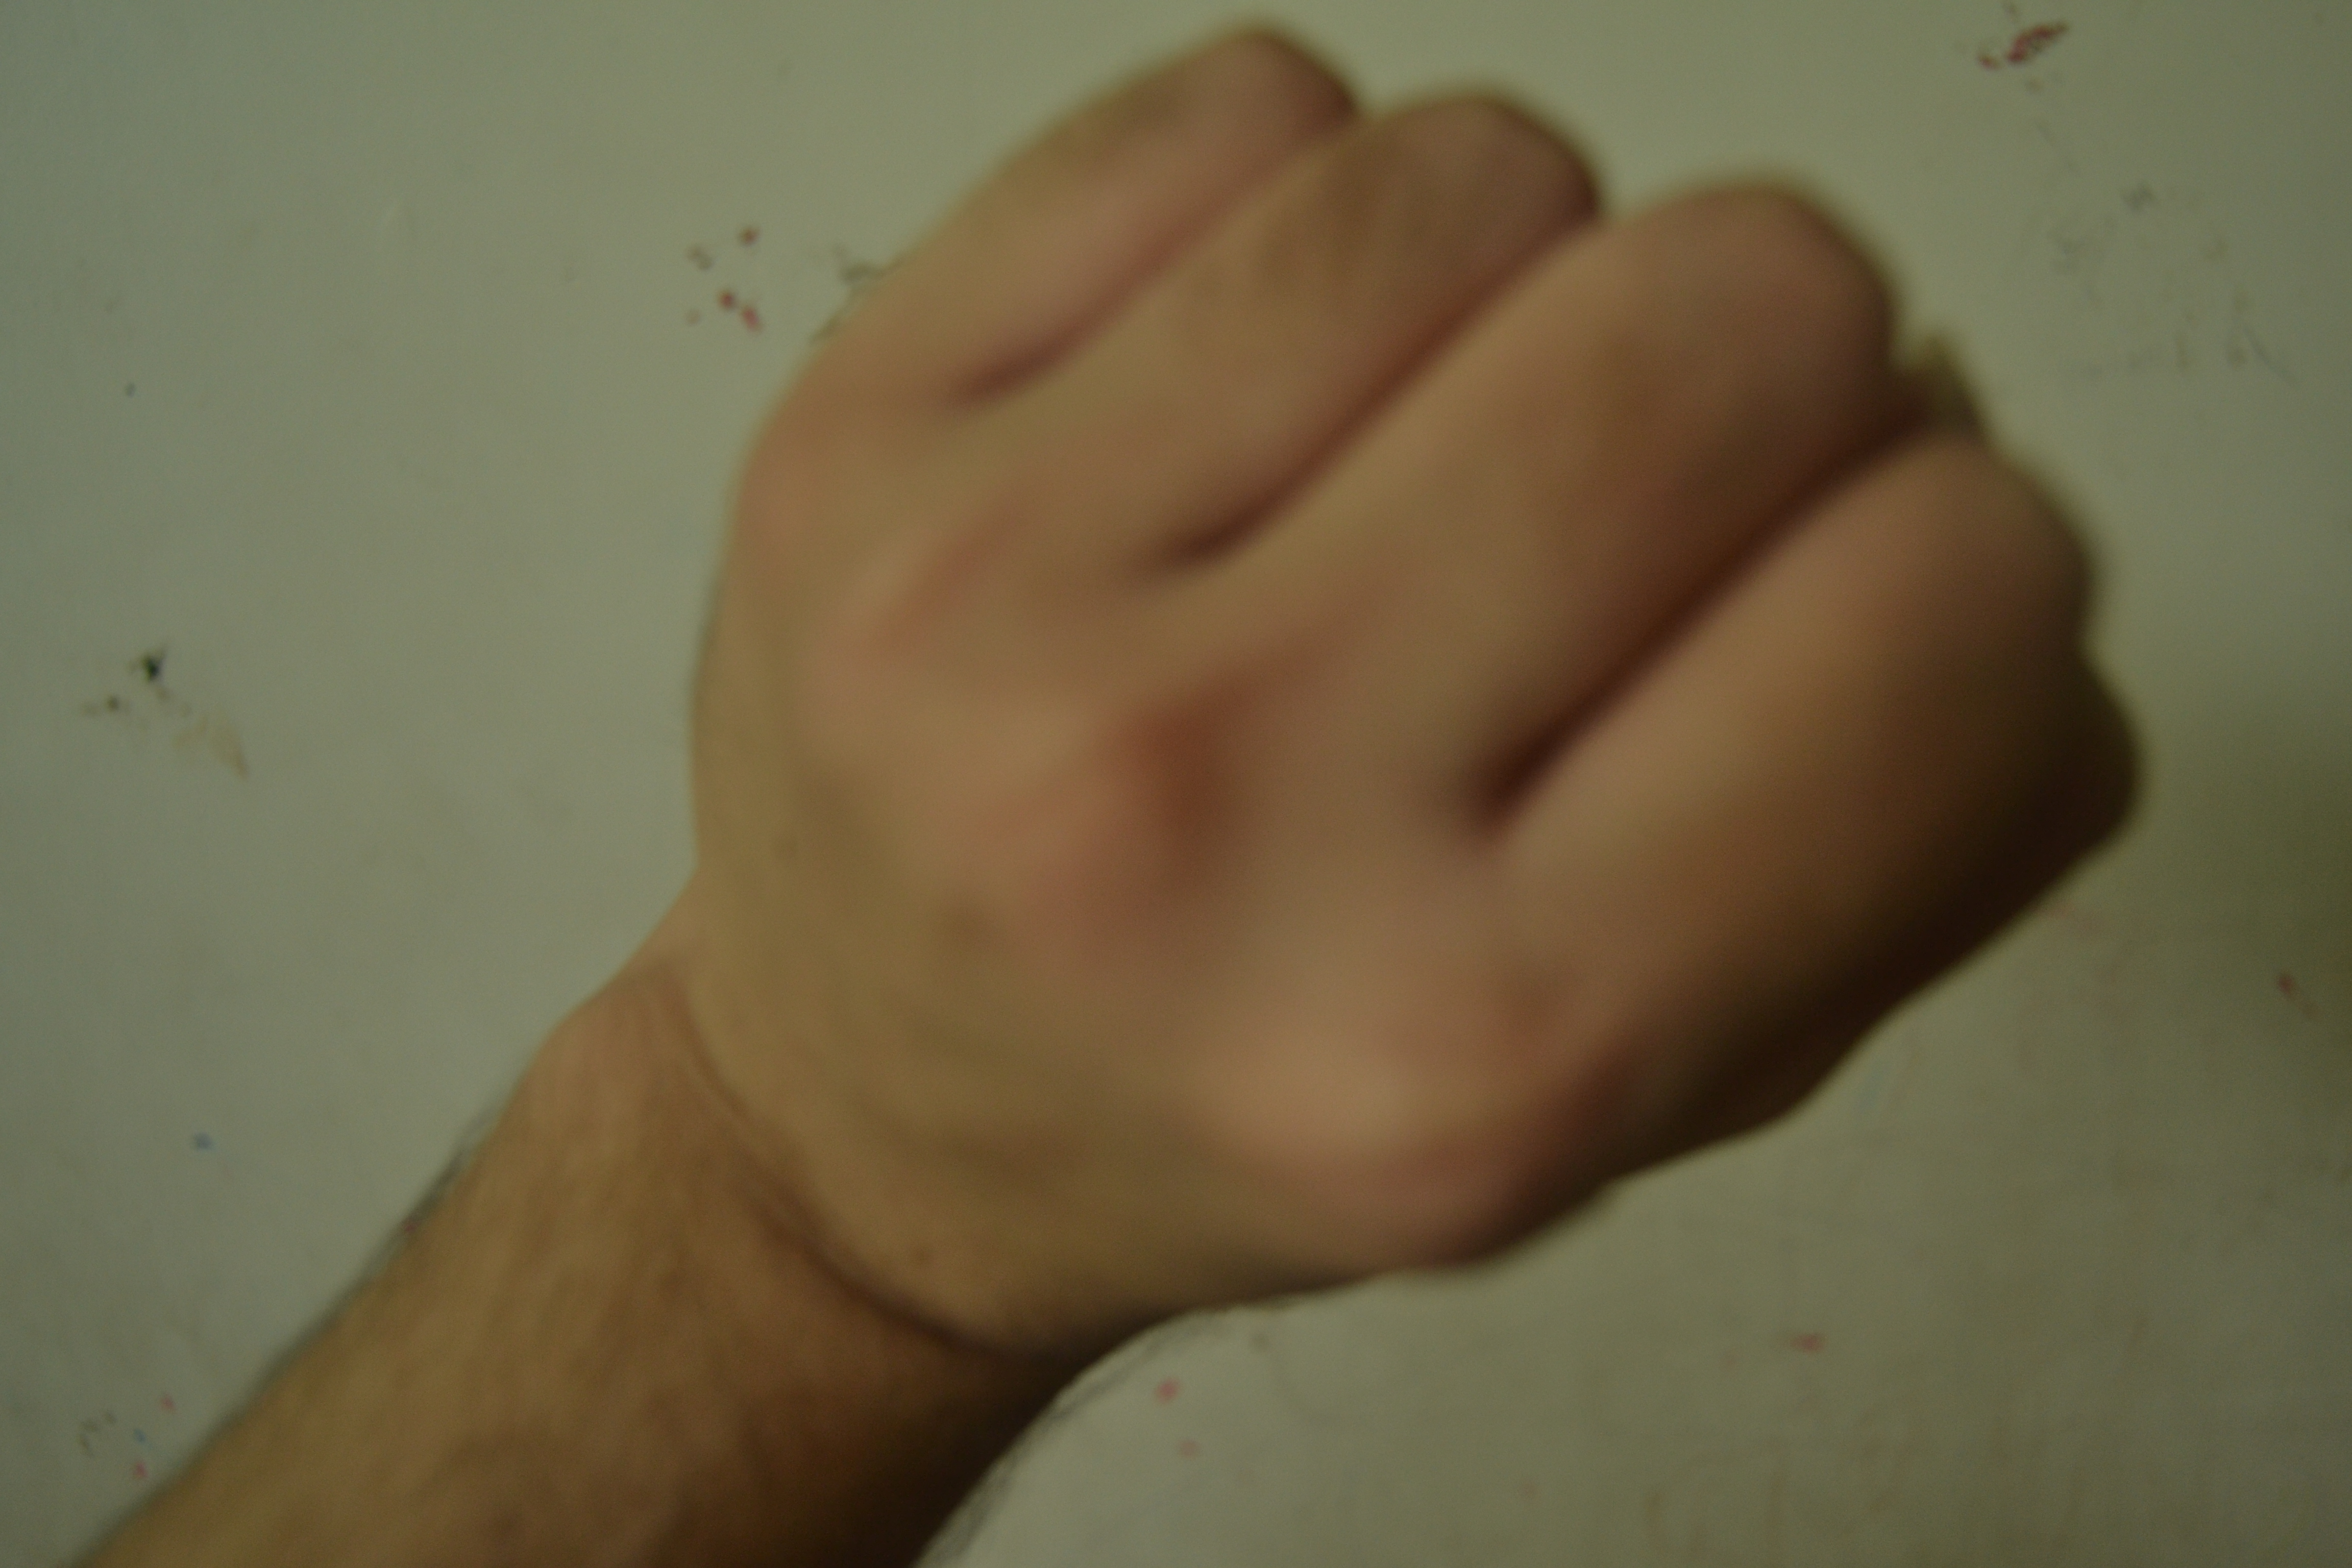click: (600, 45, 2177, 1430)
